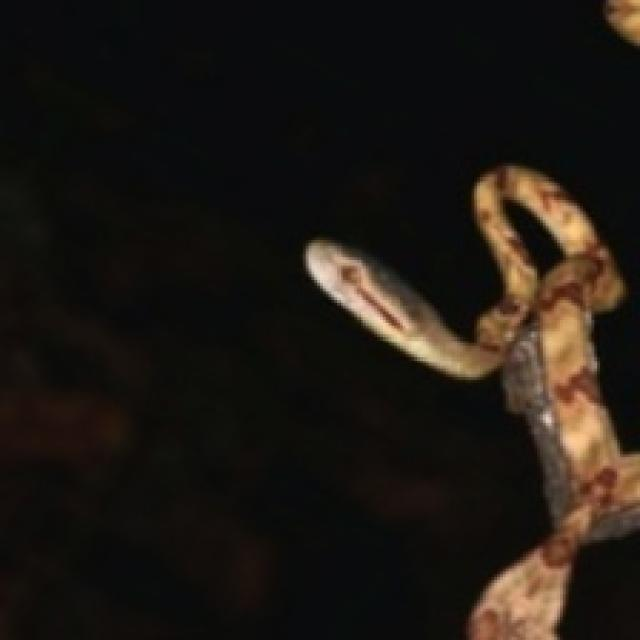dog-toothed cat snake: (306, 166, 637, 637)
